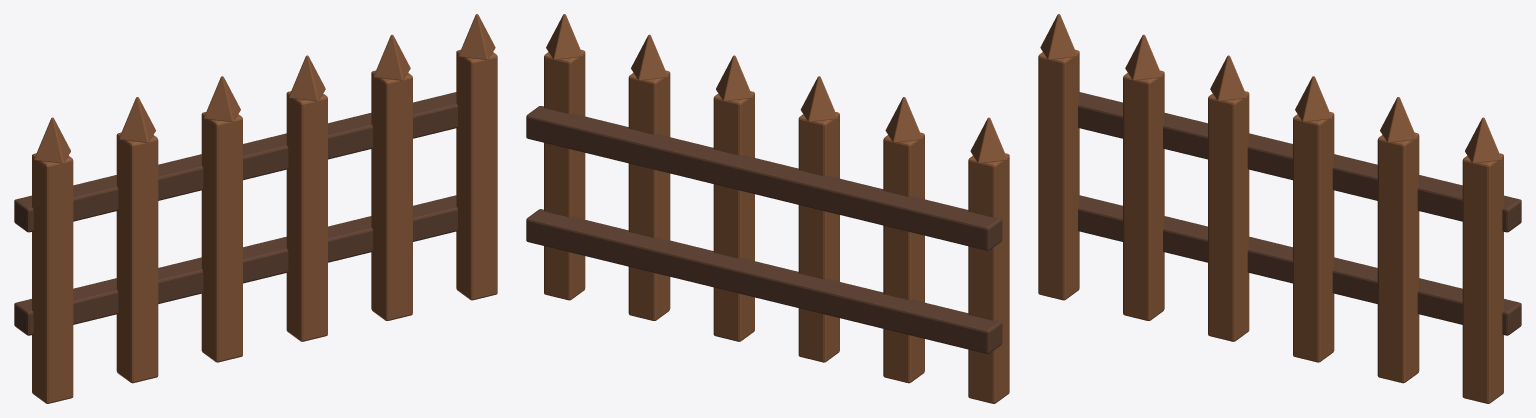
File: ashwick-picket-fence.meshopt.glb
The picture shows the model from 3 angles, left to right: view 1: azimuth 30°, elevation 25°; view 2: azimuth 150°, elevation 25°; view 3: azimuth 330°, elevation 25°; orthographic projection.
Visible parts, largest first — view 1: Picket.001, Rails.001, Point.001; view 2: Picket.001, Rails.001, Point.001; view 3: Picket.001, Rails.001, Point.001.
Part boxes in pixels (x1,y1,x2,y2): Picket.001: (32, 49, 497, 403); Rails.001: (14, 92, 457, 335); Point.001: (34, 14, 495, 163); Picket.001: (544, 50, 1009, 403); Rails.001: (526, 106, 1002, 353); Point.001: (546, 14, 1007, 163); Picket.001: (1038, 49, 1503, 403); Rails.001: (1078, 92, 1521, 335); Point.001: (1040, 14, 1501, 163).
Size of the model in its own units: 2.02 by 1.16 by 0.2305.
